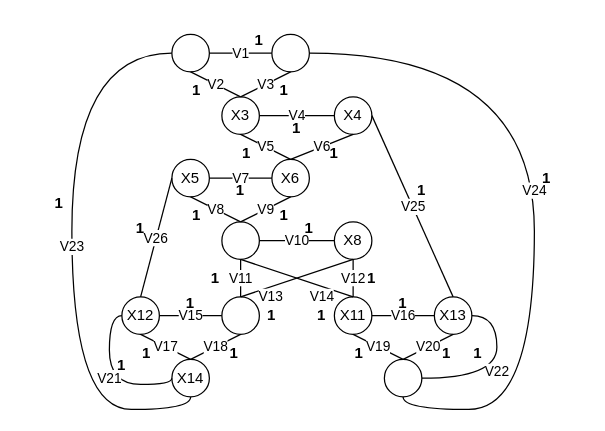
This 605x431 diagram has some shape labels left out. Here are the shapes that lost their labels. From the top down, the centre of each, then its label:
At pixel 190 52: "X1".
At pixel 290 52: "X2".
At pixel 240 240: "X7".
At pixel 240 315: "X10".
At pixel 402 377: "X15".
